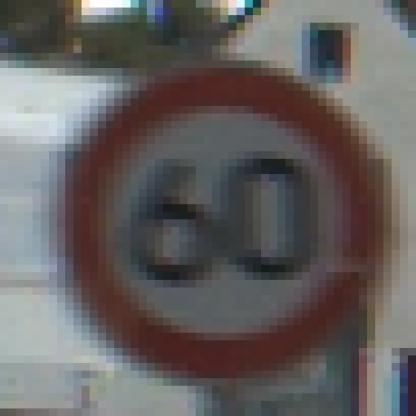Speed Limit 60: (69, 64, 374, 382)
